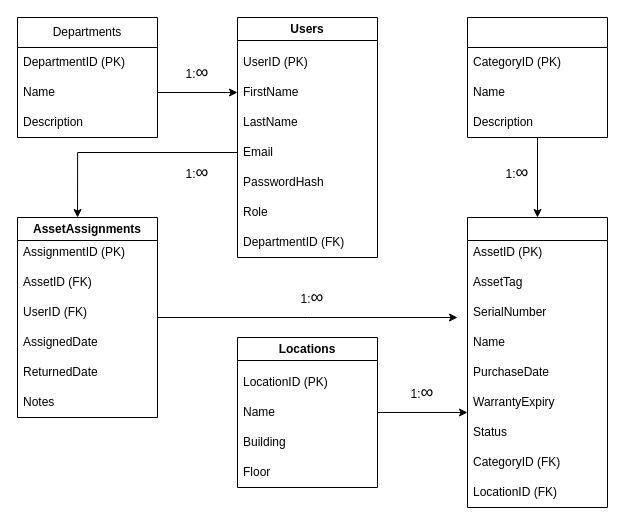
Image size: 625x525. Some labels were removed from this diagram. The box of each missing label's shape, as (x1, y1, x2, y2) in pixels:
Assets: (466, 216, 608, 508)
Categories: (466, 16, 608, 138)
